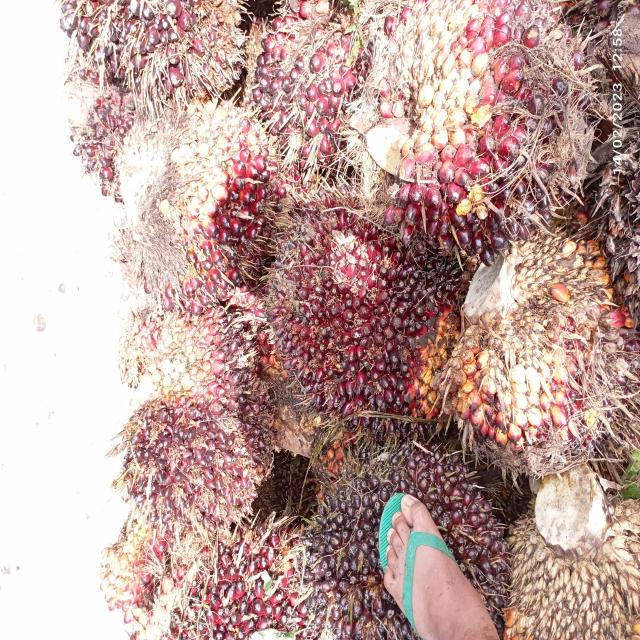fraksi 1: (346, 0, 591, 258), (242, 172, 470, 445), (110, 87, 292, 306), (82, 381, 276, 524), (34, 0, 246, 99), (248, 10, 380, 147)
